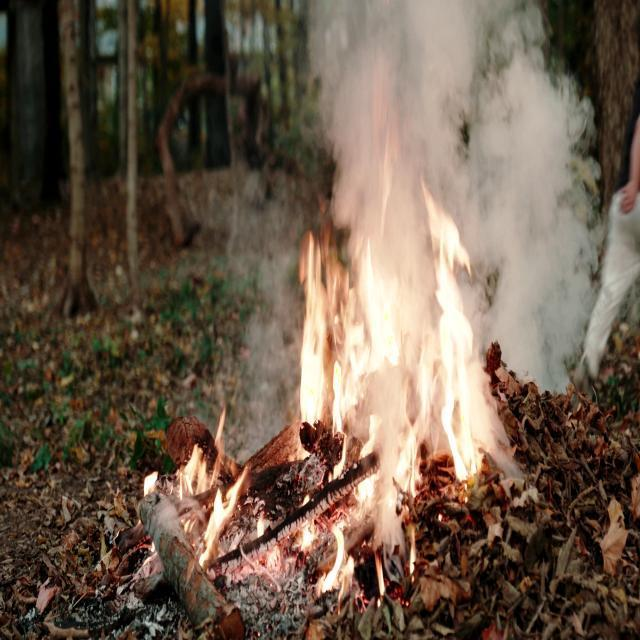Fire: (291, 207, 506, 608), (143, 398, 268, 573)
Smoke: (281, 0, 615, 232), (467, 14, 599, 395)
